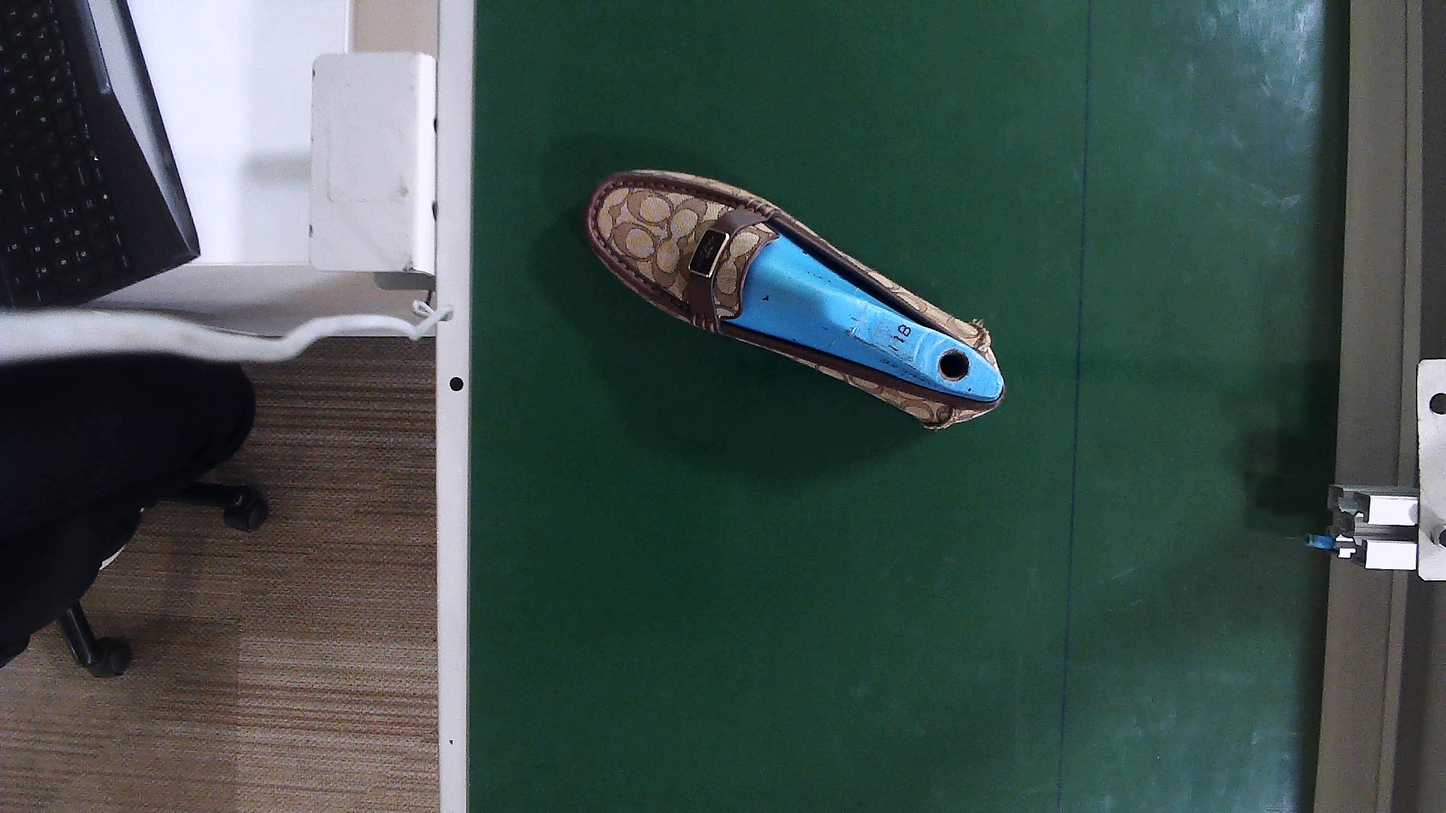shoe: (587, 172, 1003, 429)
